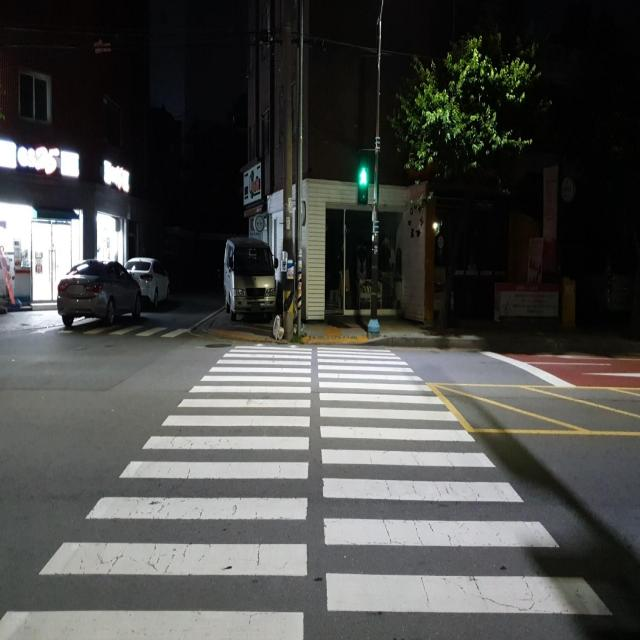초록불: (356, 147, 372, 204)
횡단보도: (0, 338, 616, 640)
